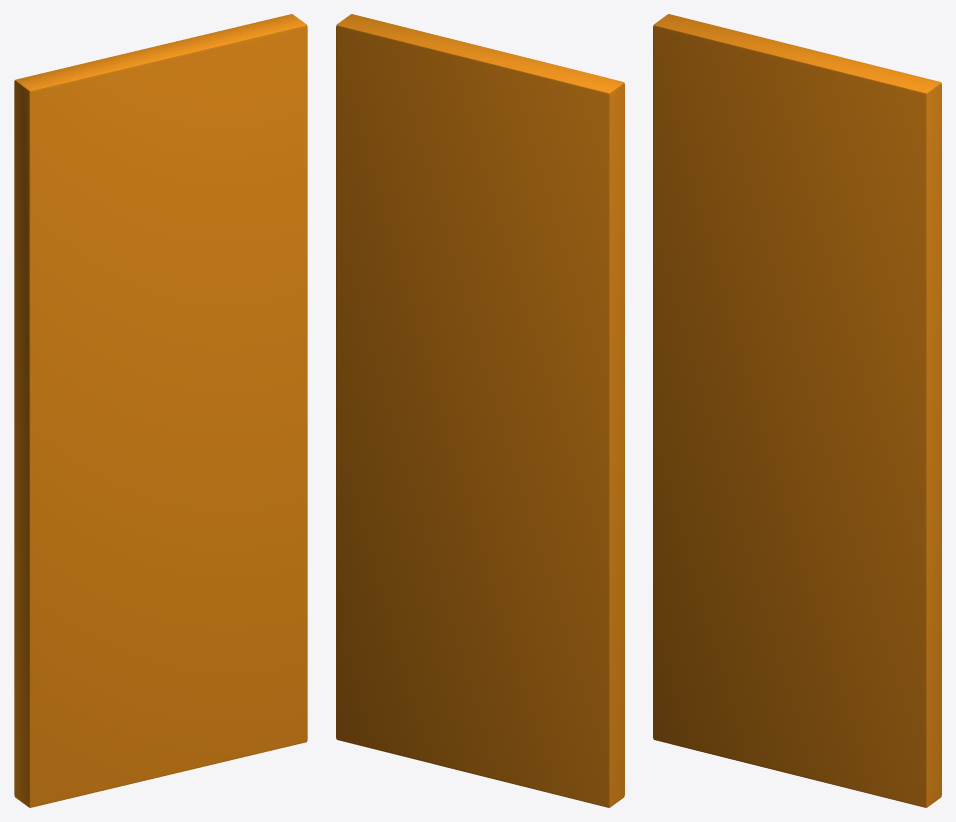
The model's file is SM_wall_2.fbx.
3 views of the same model, side by side, from view 1: azimuth 30°, elevation 25°; view 2: azimuth 150°, elevation 25°; view 3: azimuth 330°, elevation 25° (orthographic).
Visible parts, largest first — view 1: Object043; view 2: Object043; view 3: Object043.
Boxes of the visible parts, box(x1,y1,x2,y2) form: Object043: box(14, 14, 307, 807); Object043: box(336, 14, 624, 807); Object043: box(653, 14, 941, 807).
Bounding box in the file's own units: 137 × 340 × 15.14.
